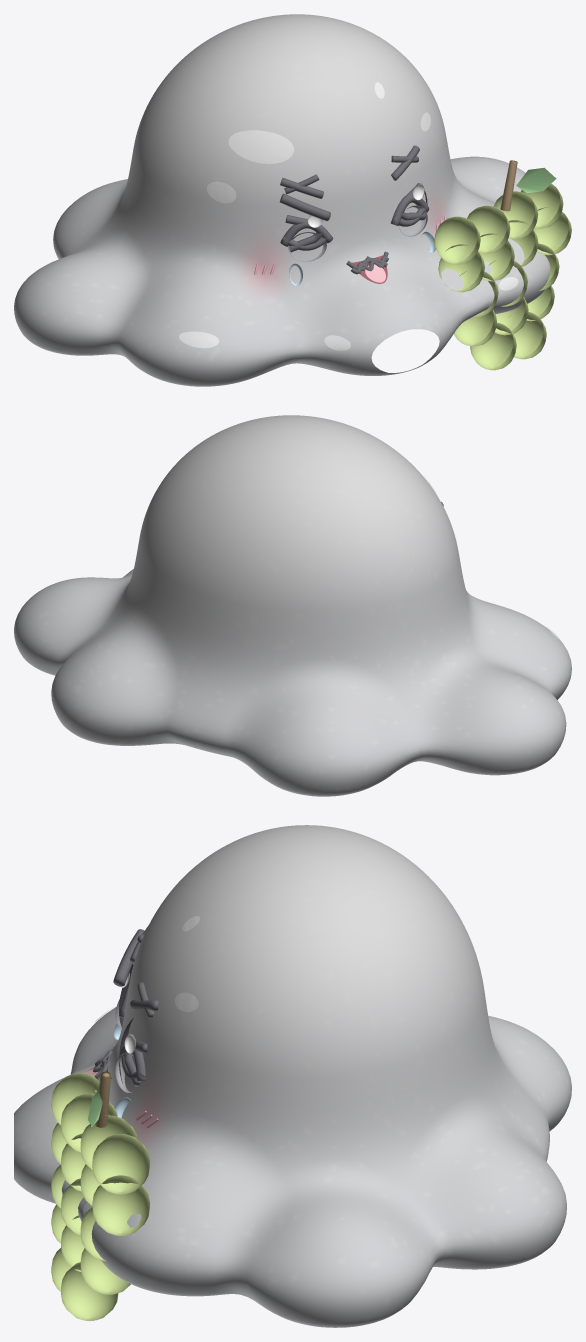
The model's file is p_muscat_slime.glb.
The picture shows the model from 3 angles, top to bottom: view 1: azimuth 30°, elevation 25°; view 2: azimuth 150°, elevation 25°; view 3: azimuth 270°, elevation 25°; orthographic projection. The views are drawn at different scales.
Visible parts, largest first — view 1: BodyMesh, face_eyes_happy, face_eyes_normal, face_brows_angry, face_eyes_strain, face_brow_smug; view 2: BodyMesh; view 3: BodyMesh, face_eyes_normal.
Part boxes in pixels (box(x1,y1,x2,y2)): BodyMesh: box(14, 14, 571, 386); face_eyes_happy: box(280, 196, 429, 246); face_eyes_normal: box(288, 183, 427, 261); face_brows_angry: box(280, 145, 419, 198); face_eyes_strain: box(285, 183, 425, 252); face_brow_smug: box(279, 193, 330, 221); BodyMesh: box(14, 415, 571, 796); BodyMesh: box(14, 825, 571, 1327); face_eyes_normal: box(115, 964, 135, 1092).
Size of the model in its own units: 2.93 by 1.64 by 2.17.
